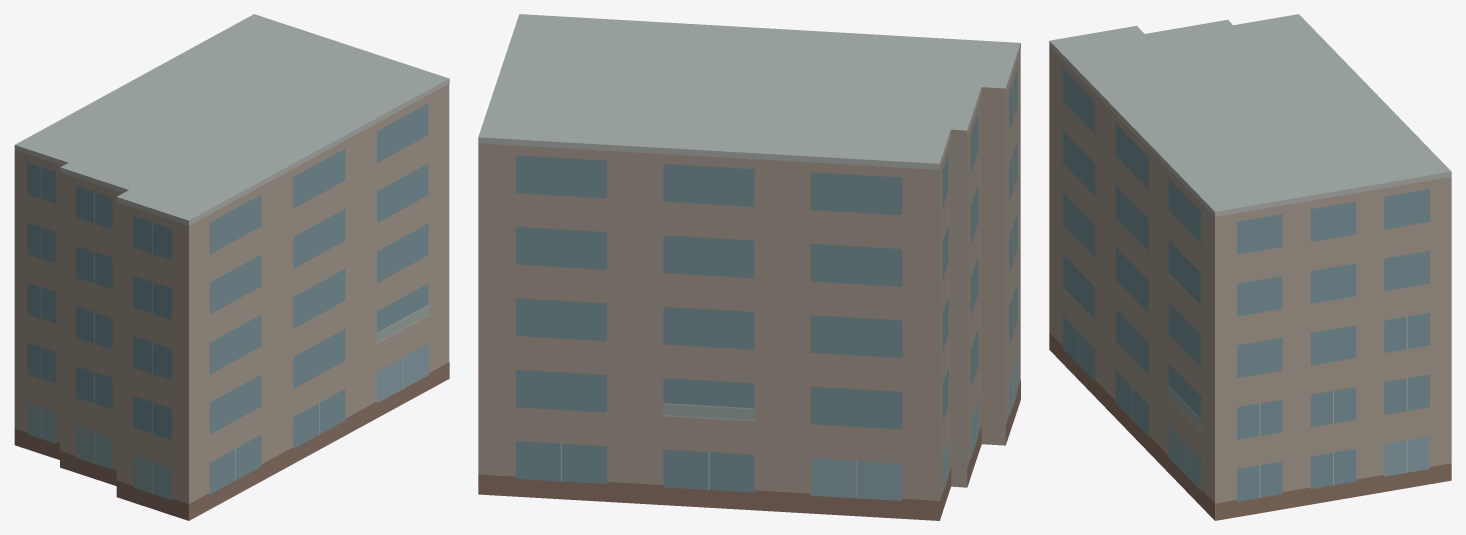
File: survey-upis-32971260.glb
The picture shows the model from 3 angles, left to right: view 1: azimuth 30°, elevation 25°; view 2: azimuth 150°, elevation 25°; view 3: azimuth 270°, elevation 25°; orthographic projection. The views are drawn at different scales.
Parts seen in each view (by area): view 1: survey-upis-32971260.tmp; view 2: survey-upis-32971260.tmp; view 3: survey-upis-32971260.tmp.
Part boxes in pixels (left/top/right/bottom): survey-upis-32971260.tmp: left=14, top=14, right=449, bottom=520; survey-upis-32971260.tmp: left=478, top=14, right=1020, bottom=520; survey-upis-32971260.tmp: left=1049, top=14, right=1451, bottom=520.
Size of the model in its own units: 19.93 by 14.5 by 17.12.
